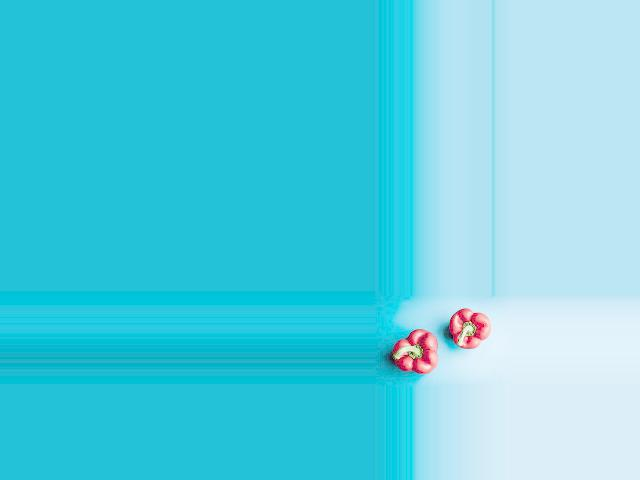bell_pepper: (387, 323, 447, 373)
